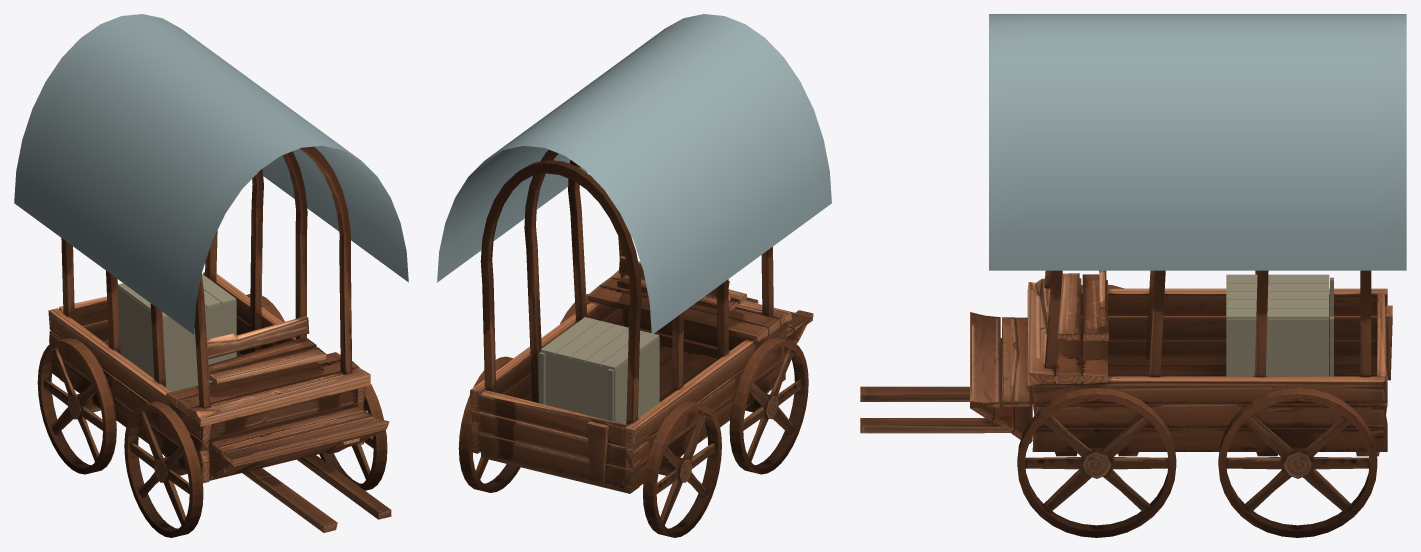
File: astra_t03.glb
The picture shows the model from 3 angles, left to right: view 1: azimuth 30°, elevation 25°; view 2: azimuth 150°, elevation 25°; view 3: azimuth 270°, elevation 25°; orthographic projection. The views are drawn at different scales.
Visible parts, largest first — view 1: replacement_canopy, slot_anchor_frame, slot_front_wheels, cargo_crate; view 2: replacement_canopy, slot_anchor_frame, slot_front_wheels, cargo_crate, wood_plank_3, wood_plank_4, wood_plank_2, wood_plank_0, wood_plank_1; view 3: replacement_canopy, slot_anchor_frame, slot_front_wheels, cargo_crate, wood_plank_4, wood_plank_0, wood_plank_3, wood_plank_1, wood_plank_2.
Part boxes in pixels (box(x1,y1,x2,y2)): replacement_canopy: box(14, 14, 408, 334); slot_anchor_frame: box(37, 146, 391, 532); slot_front_wheels: box(124, 361, 387, 537); cargo_crate: box(118, 287, 236, 391); replacement_canopy: box(437, 14, 831, 334); slot_anchor_frame: box(458, 150, 813, 537); slot_front_wheels: box(560, 294, 808, 474); cargo_crate: box(545, 337, 659, 424); wood_plank_3: box(555, 320, 614, 358); wood_plank_4: box(540, 317, 599, 355); wood_plank_2: box(570, 324, 628, 362); wood_plank_0: box(600, 331, 659, 369); wood_plank_1: box(585, 329, 644, 366); replacement_canopy: box(989, 14, 1406, 270); slot_anchor_frame: box(860, 270, 1392, 537); slot_front_wheels: box(1017, 284, 1176, 537); cargo_crate: box(1226, 319, 1329, 376); wood_plank_4: box(1226, 308, 1329, 319); wood_plank_0: box(1226, 274, 1329, 283); wood_plank_3: box(1226, 300, 1329, 308); wood_plank_1: box(1226, 283, 1329, 291); wood_plank_2: box(1226, 291, 1329, 299).
Bounding box in the file's own units: 1.06 × 1.87 × 2.01.
Materials: 10 (1 with a texture image).
